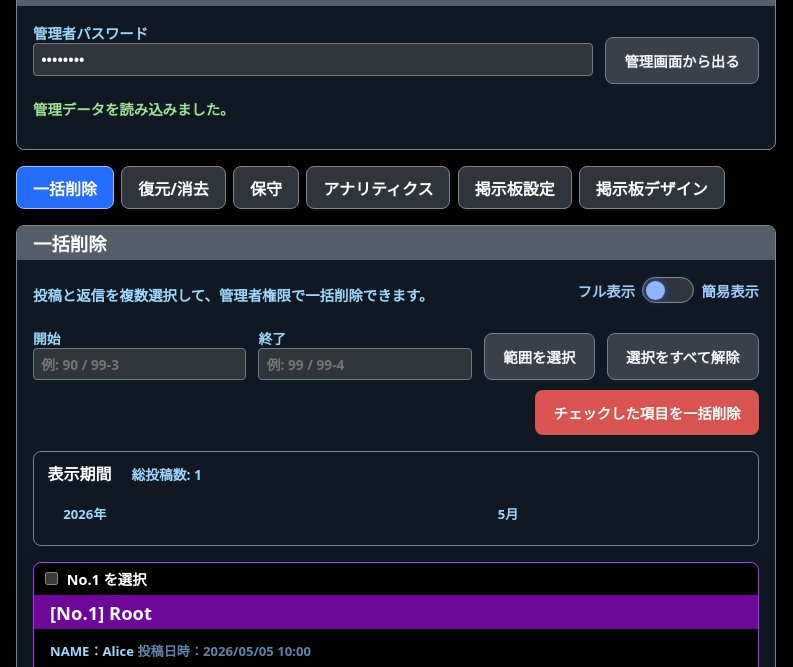
Test case: AdminPage › disables access to registered user management while SSO is enabled
The image size is (793, 667).
Click the button "保守" at (266,188), box [233,166,299,209]
(page scrolled)
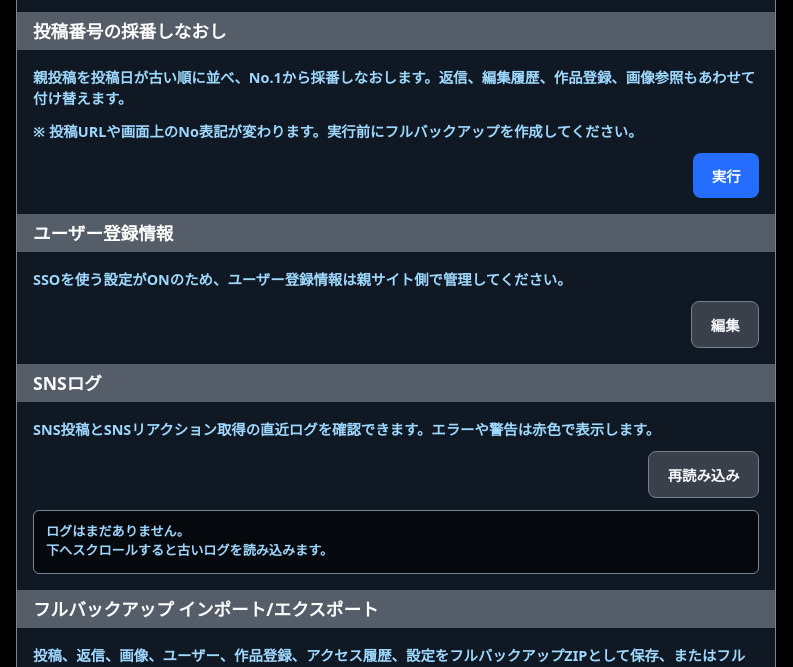
Now the text "SSOを使う設定がONのため、ユーザー登録情報は親サイト側で管理してください。" is shown, box [33,270,572,289]
Now the button "編集" is disabled, box [691,301,759,348]
